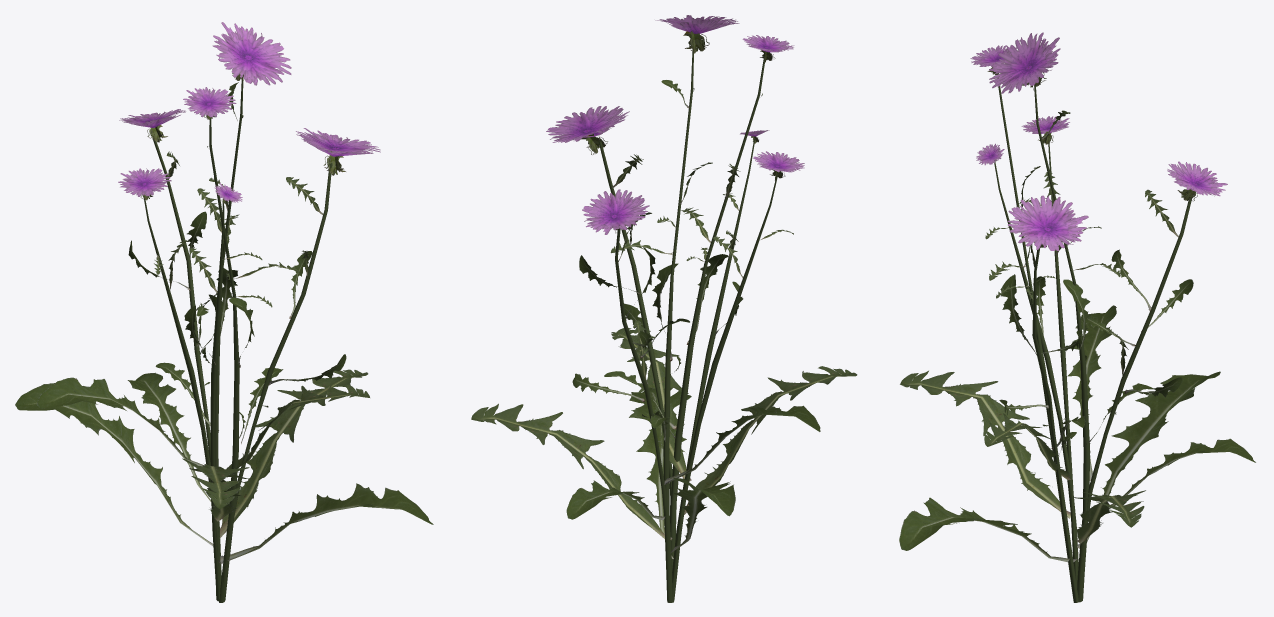
File: Thistle.fbx
3 renders of one model, left to right at view 1: azimuth 30°, elevation 25°; view 2: azimuth 150°, elevation 25°; view 3: azimuth 270°, elevation 25°, orthographic. The views are drawn at different scales.
Parts seen in each view (by area): view 1: aa leaf.001, leaf01, Plane; view 2: aa leaf.001, leaf01, Plane; view 3: aa leaf.001, leaf01, Plane.
Part boxes in pixels (x1,y1,x2,y2): aa leaf.001: (128,80,346,602); leaf01: (15,369,433,563); Plane: (118,22,380,203); aa leaf.001: (572,50,793,602); leaf01: (471,328,857,558); Plane: (546,15,804,234); aa leaf.001: (985,73,1193,602); leaf01: (899,305,1255,562); Plane: (970,32,1227,251).
Bounding box in the file's own units: 98.05 × 162 × 95.49.
